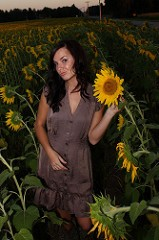flower: (91, 67, 126, 108)
